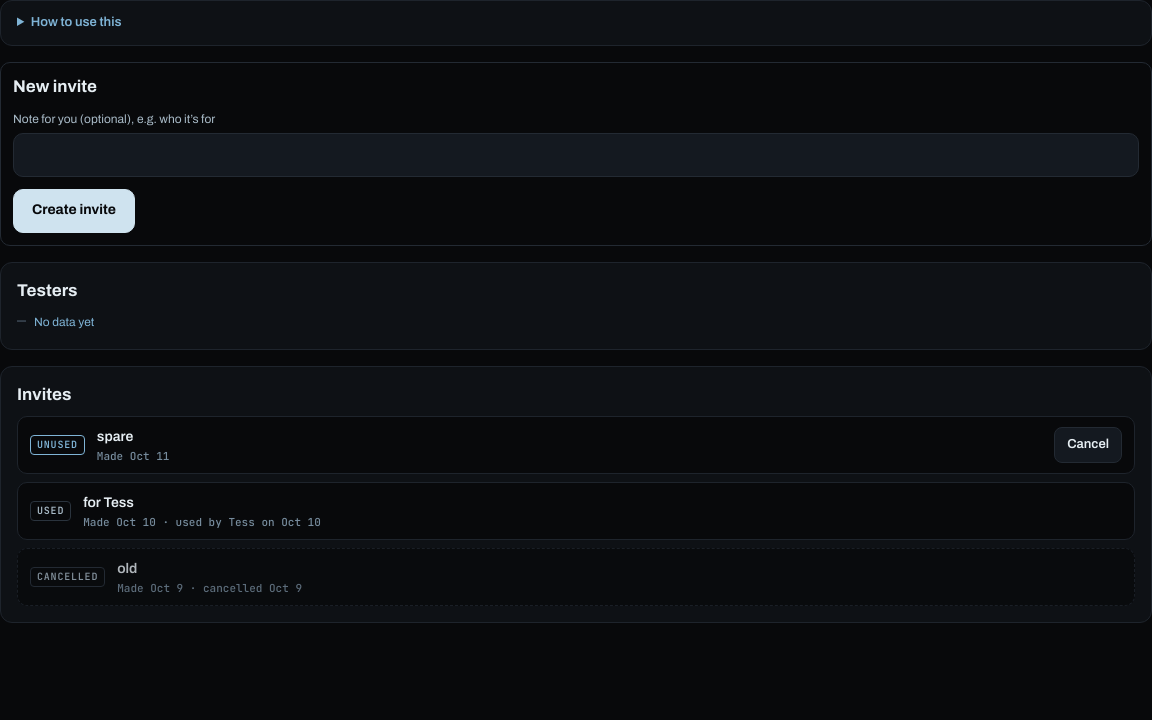
Test case: Owner console → Members (T60) › lists invites with their state; only unused ones can be cancelled
Expected: the list item "for Tess" reads "USED for Tess Made Oct 10 · used by Tess on Oct 10", left=17, top=482, right=1135, bottom=540
Expected: the list item "old" shows "CANCELLED", left=37, top=570, right=98, bottom=583
Step 1. Click the button with aria-label "Cancel invite: spare" → (1088, 445), box left=1054, top=427, right=1122, bottom=463
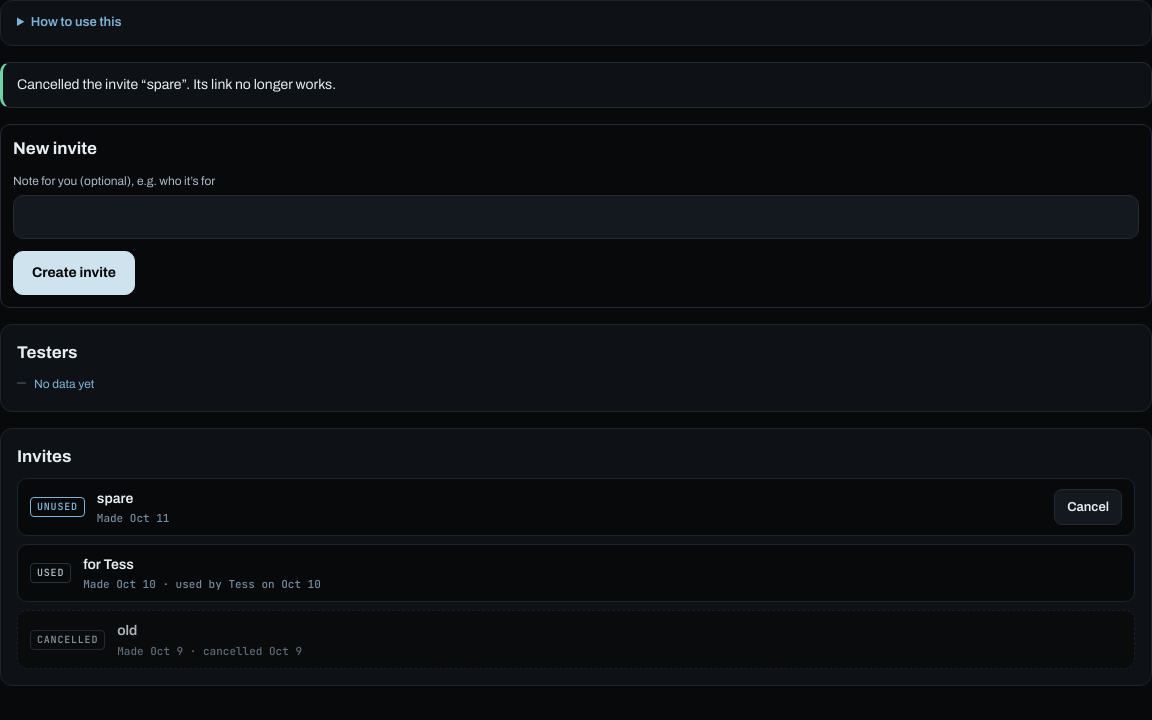
Expected: the text "Cancelled the invite “spare”. Its link no longer works." is shown, left=0, top=62, right=1151, bottom=108
